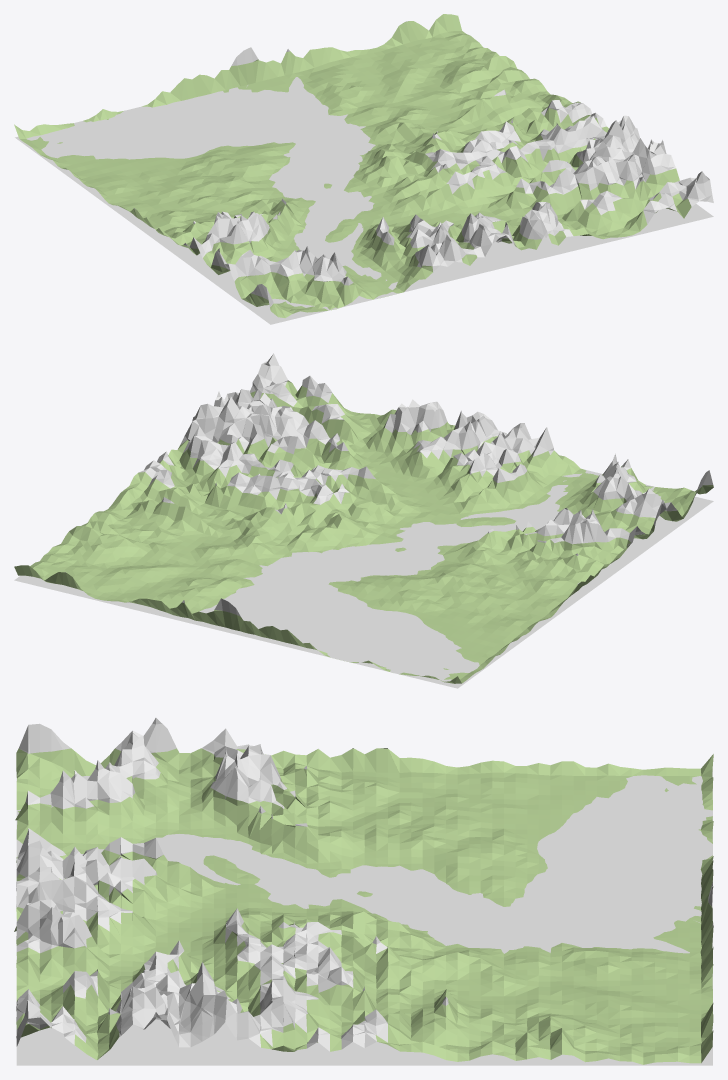
Rendered from bregenz-low-poly-mountain.fbx.
The picture shows the model from 3 angles, top to bottom: view 1: azimuth 30°, elevation 25°; view 2: azimuth 150°, elevation 25°; view 3: azimuth 270°, elevation 25°; orthographic projection. The views are drawn at different scales.
Parts seen in each view (by area): view 1: mountain, water; view 2: mountain, water; view 3: mountain, water.
Boxes of the visible parts, x1,y1,x2,y2 form: mountain: [14, 14, 713, 318]; water: [15, 77, 713, 324]; mountain: [14, 353, 713, 683]; water: [14, 469, 713, 688]; mountain: [14, 718, 713, 1064]; water: [16, 771, 712, 1065].
Size of the model in its own units: 60.33 by 60.23 by 7.04.
